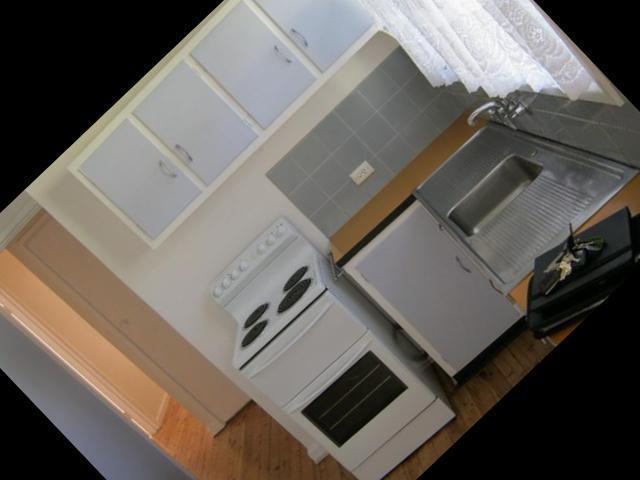Lavaplatos: (395, 33, 640, 293)
